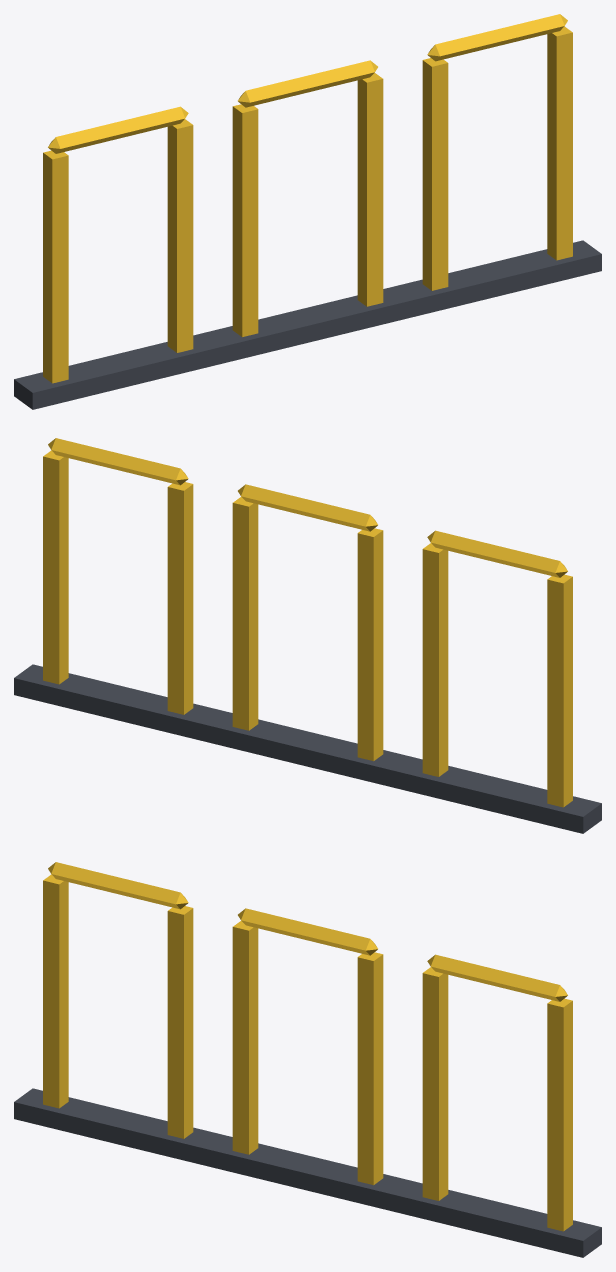
The model's file is bike-rack.glb.
3 views of the same model, one above another, from view 1: azimuth 30°, elevation 25°; view 2: azimuth 150°, elevation 25°; view 3: azimuth 330°, elevation 25° (orthographic).
Visible parts, largest first — view 1: bike_rack; view 2: bike_rack; view 3: bike_rack.
Boxes of the visible parts, x1=… form: bike_rack: x1=14, y1=14, x2=601, y2=409; bike_rack: x1=14, y1=438, x2=601, y2=833; bike_rack: x1=14, y1=862, x2=601, y2=1257.
Size of the model in its own units: 2.1 by 0.91 by 0.12.
